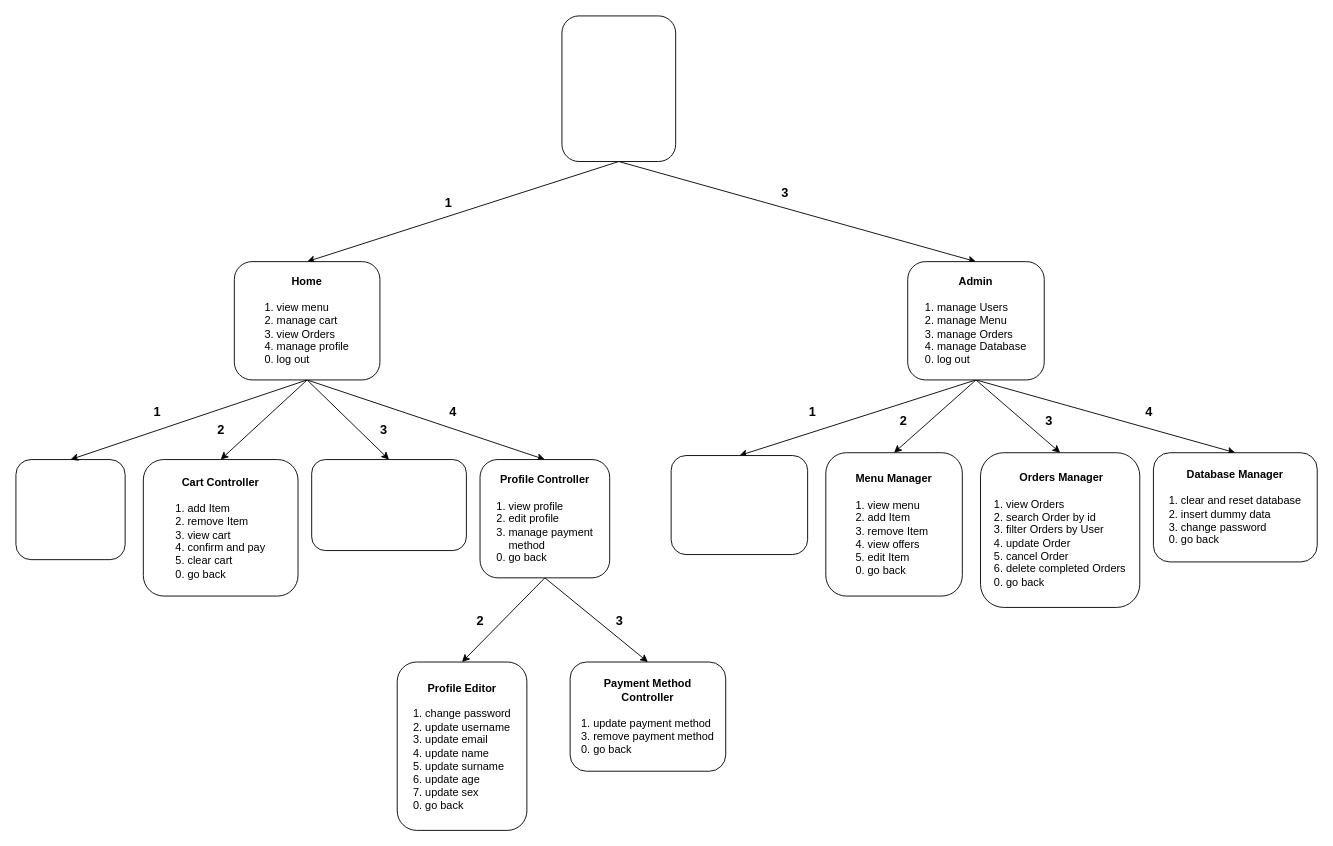
Some shapes in this 1333 by 846 pixel diagram are drawn without their labels. Here are the shapes that lost their labels. From the top down, the centre of each, then its label:
At [618,88]: "Breaking Bread 1. Sign in 2. Sign up 3. Admin 0. exit".
At [70,509]: "Menu Page 1. view menu 2. view offers 0. go back".
At [388,505]: "Order Controller 1. view Orders 2. refund Order (if possible) 0. go back".
At [739,505]: "Users Manager 1. view Users 2. search User 3. remove User 0. go back".
